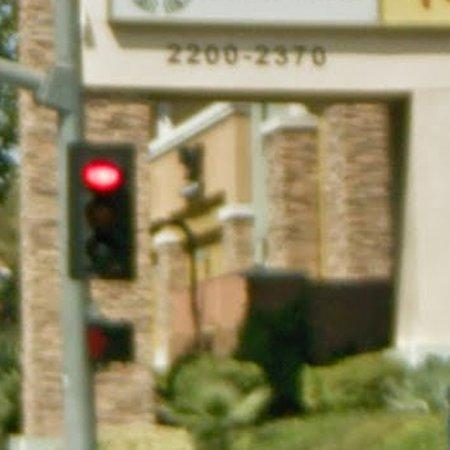traffic lights: (67, 144, 136, 282)
